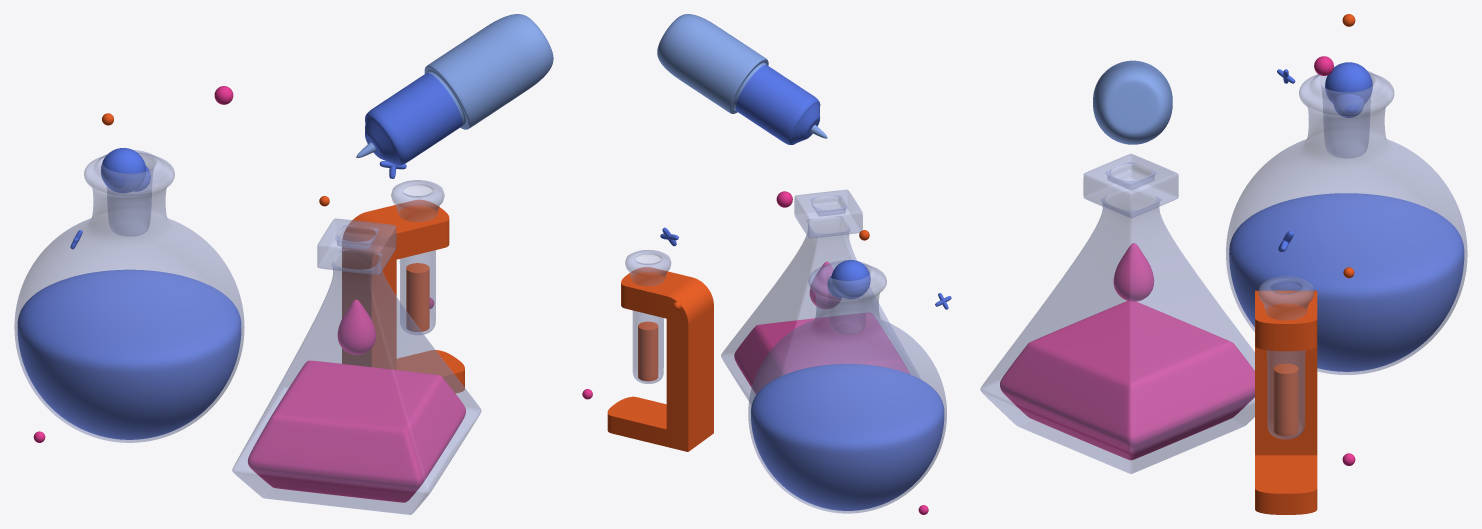
Rendered from science-3d-animated-icon-349679873080.glb.
3 views of the same model, side by side, from view 1: azimuth 30°, elevation 25°; view 2: azimuth 150°, elevation 25°; view 3: azimuth 270°, elevation 25° (orthographic). The views are drawn at different scales.
Visible parts, largest first — view 1: glass, glass.001, water.001, water.003, needle, iron, glass.002, element sphere.006, water, water.002; view 2: glass, water.001, iron, glass.001, needle, water.003, glass.002, element sphere.006, water, water.002; view 3: glass.001, glass, water.001, water.003, iron, needle, glass.002, water, water.002, element sphere.006, element sphere.004.
Boxes of the visible parts, x1,y1,x2,y2 form: glass: [14, 150, 244, 442]; glass.001: [232, 218, 481, 514]; water.001: [17, 269, 241, 439]; water.003: [248, 360, 465, 502]; needle: [356, 14, 553, 165]; iron: [342, 199, 464, 393]; glass.002: [391, 180, 444, 334]; element sphere.006: [101, 148, 146, 193]; water: [406, 263, 429, 331]; water.002: [337, 299, 375, 354]; glass: [748, 260, 946, 513]; water.001: [751, 364, 944, 510]; iron: [607, 267, 713, 451]; glass.001: [721, 189, 920, 404]; needle: [657, 14, 827, 144]; water.003: [734, 312, 910, 394]; glass.002: [625, 250, 671, 383]; element sphere.006: [831, 260, 870, 299]; water: [638, 321, 658, 381]; water.002: [809, 261, 841, 308]; glass.001: [980, 154, 1254, 473]; glass: [1226, 71, 1467, 374]; water.001: [1229, 193, 1464, 371]; water.003: [1000, 301, 1254, 460]; iron: [1255, 290, 1317, 514]; needle: [1093, 60, 1172, 144]; glass.002: [1258, 276, 1314, 439]; water: [1273, 363, 1298, 435]; water.002: [1113, 243, 1154, 301]; element sphere.006: [1325, 62, 1372, 103]; element sphere.004: [1333, 94, 1364, 117].
Size of the model in its own units: 5.91 by 5.72 by 5.73.
